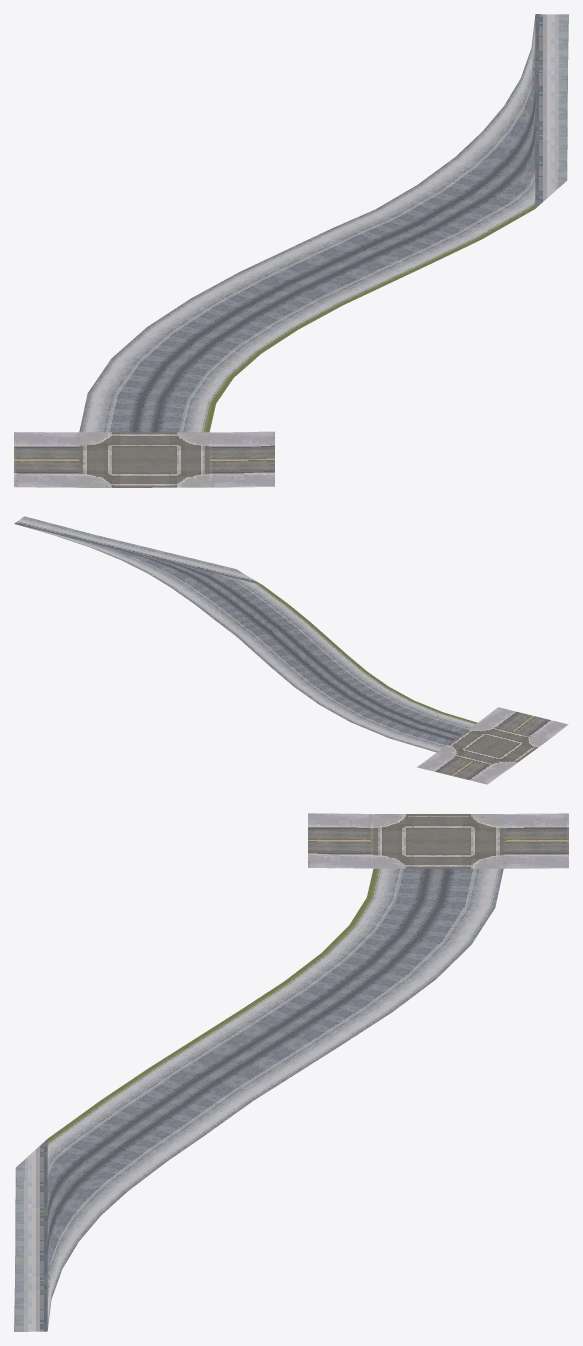
The model's file is lodaseroad068.obj.
The picture shows the model from 3 angles, top to bottom: view 1: azimuth 90°, elevation 25°; view 2: azimuth 150°, elevation 25°; view 3: azimuth 270°, elevation 25°; orthographic projection. The views are drawn at different scales.
Visible parts, largest first — view 1: lodasEroad068; view 2: lodasEroad068; view 3: lodasEroad068.
Part boxes in pixels (box(x1,y1,x2,y2)): lodasEroad068: box(14, 14, 568, 487); lodasEroad068: box(14, 516, 568, 784); lodasEroad068: box(14, 813, 568, 1331).
Bounding box in the file's own units: 180 × 4.23 × 85.17.
Materials: 4 (4 with a texture image).
